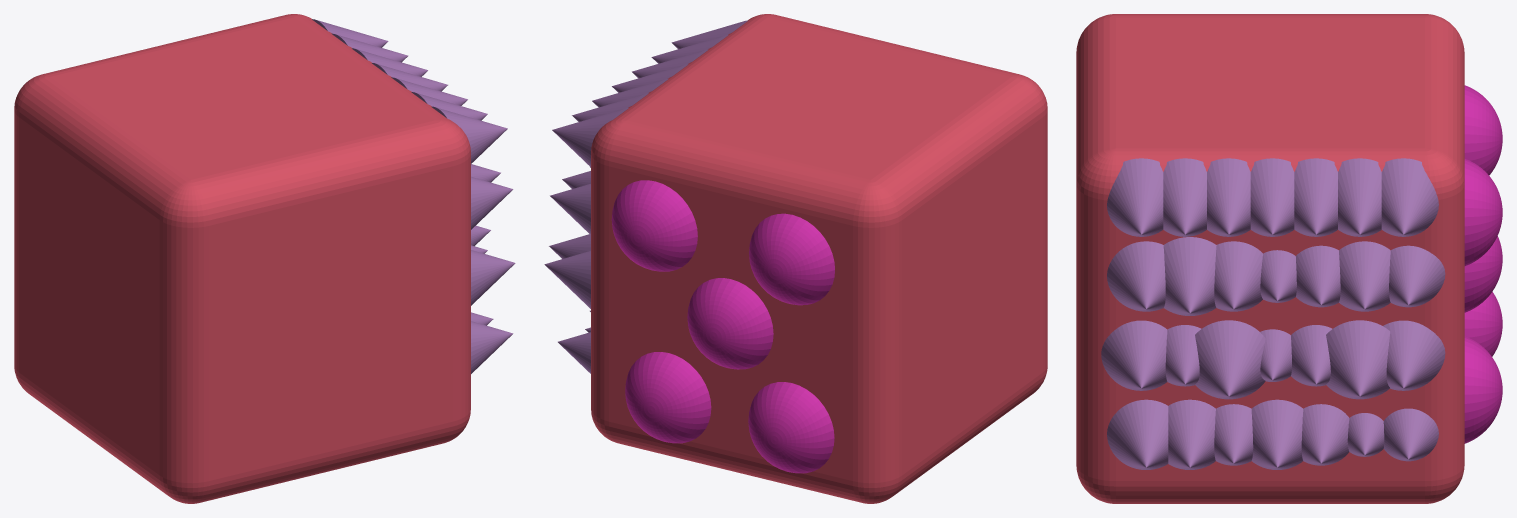
Rendered from Frantic Jaagub.glb.
3 views of the same model, side by side, from view 1: azimuth 30°, elevation 25°; view 2: azimuth 150°, elevation 25°; view 3: azimuth 270°, elevation 25° (orthographic). The views are drawn at different scales.
Visible parts, largest first — view 1: Mesh_Mesh_head_geo.001_lambert2SG.001; view 2: Mesh_Mesh_head_geo.001_lambert2SG.001; view 3: Mesh_Mesh_head_geo.001_lambert2SG.001.
Boxes of the visible parts, x1,y1,x2,y2 form: Mesh_Mesh_head_geo.001_lambert2SG.001: (14,14,515,503); Mesh_Mesh_head_geo.001_lambert2SG.001: (544,14,1047,503); Mesh_Mesh_head_geo.001_lambert2SG.001: (1076,14,1502,503).
Bounding box in the file's own units: 0.05 × 0.04 × 0.0439.
